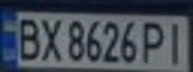2: (103, 17, 124, 64)
6: (81, 17, 106, 63), (118, 18, 142, 64)
8: (63, 16, 87, 62)
B: (12, 14, 42, 61)
I: (160, 18, 190, 65)
P: (139, 18, 169, 64)
X: (36, 15, 63, 62)
